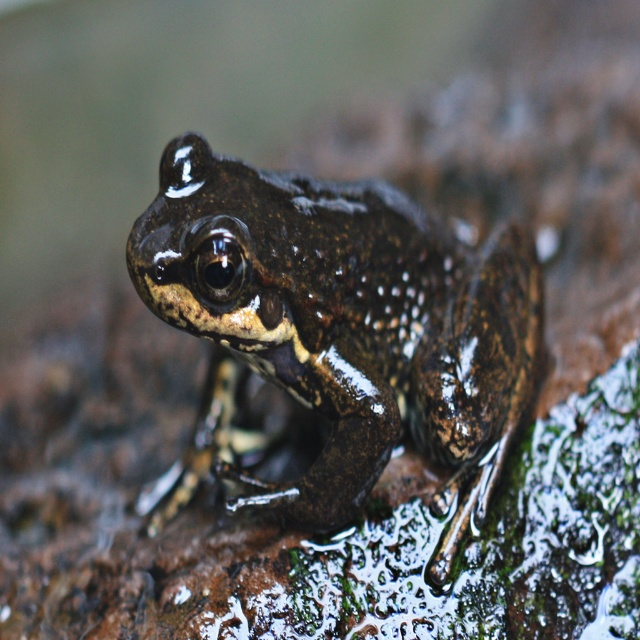Frog: (126, 133, 545, 596)
